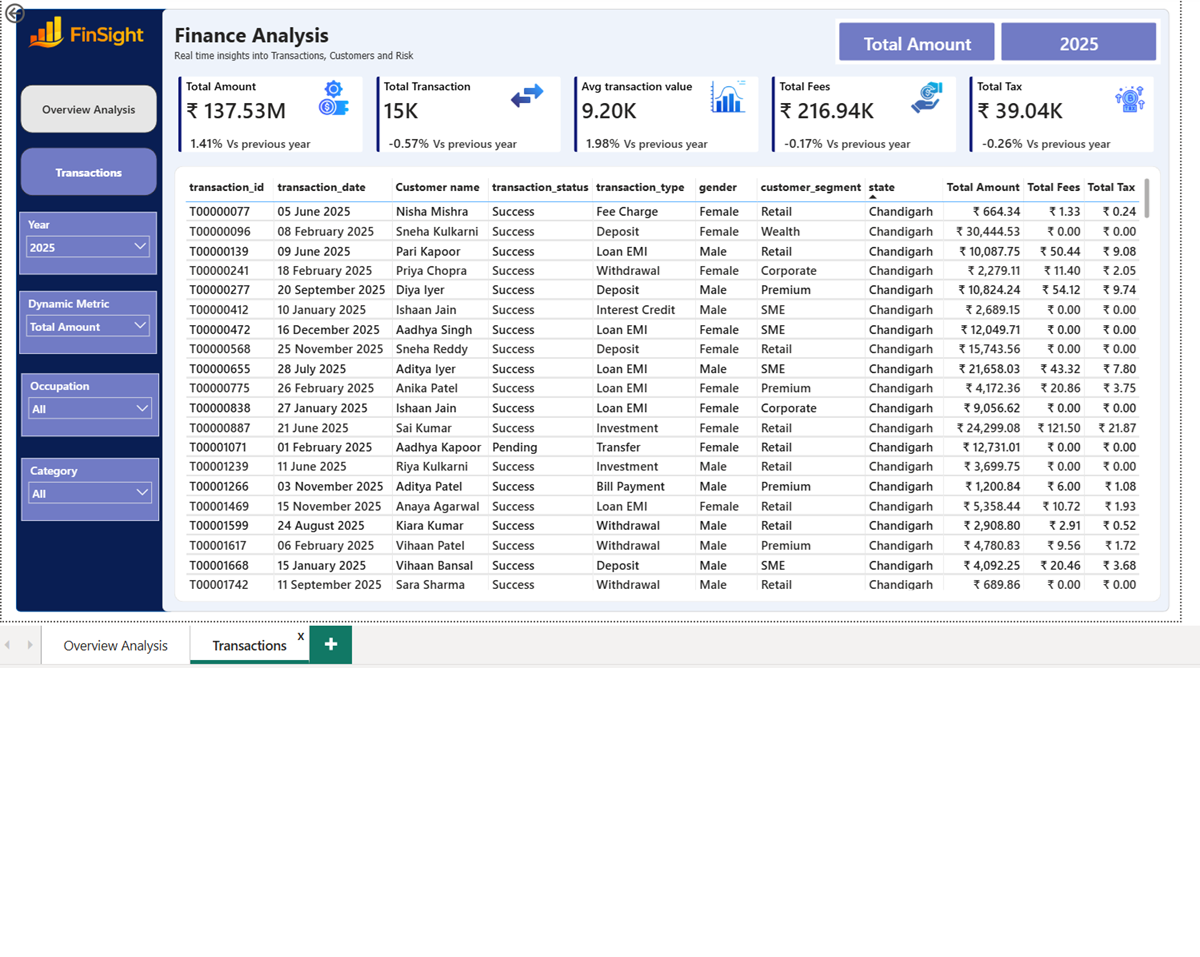

What the dashboard file says about the page in this screenshot:
{"tool":"powerbi","page":{"name":"Transactions","canvas":[1800,950],"ordinal":1},"visuals":[{"type":"shape","box":[22,14,242,922],"z":0},{"type":"shape","box":[246,14,1538,922],"z":1000},{"type":"image","box":[22,14,218,72],"z":2000},{"type":"cardVisual","fields":{"Data":["finance_transactions.Name"]},"box":[246.7,13.3,858.3,98.3],"z":3000},{"type":"cardVisual","fields":{"Data":["finance_transactions.Total Amount","finance_transactions.Total Transaction","finance_transactions.Avg trans","finance_transactions.Total Fees","finance_transactions.Total Tax"]},"box":[263.3,111.7,1506.7,128.3],"z":4000},{"type":"image","box":[478.3,123.3,56.7,53.3],"z":5000},{"type":"image","box":[776.7,116.7,53.3,60],"z":6000},{"type":"image","box":[1388.3,123.3,50,53.3],"z":7000},{"type":"image","box":[1081.7,120,55,56.7],"z":8000},{"type":"image","box":[1696.7,123.3,53.3,58.3],"z":9000},{"type":"cardVisual","fields":{"Data":["finance_transactions.Selected Dynamic Metric","finance_transactions.Selected Year"]},"box":[1273.3,28.3,496.7,70],"z":10000},{"type":"shape","box":[263.3,253.3,1506.7,666.7],"z":11000},{"type":"tableEx","fields":{"Values":["finance_transactions.transaction_id","finance_transactions.transaction_date","customers.Customer name","finance_transactions.transaction_status","finance_transactions.transaction_type","customers.gender","customers.customer_segment","customers.state","finance_transactions.Total Amount","finance_transactions.Total Fees","finance_transactions.Total Tax"]},"box":[275,266.7,1483,640],"z":12000},{"type":"actionButton","box":[0,0,100,40],"z":13000},{"type":"slicer","fields":{"Values":["Date table.Year"]},"box":[27.6,324.3,210,95],"z":14000},{"type":"slicer","fields":{"Values":["Dynamic Metric.Dynamic Metric"]},"box":[27.6,445.9,210.1,95.8],"z":15000},{"type":"slicer","fields":{"Values":["customers.occupation"]},"box":[29.5,571.3,210.1,95.8],"z":16000},{"type":"slicer","fields":{"Values":["finance_transactions.merchant_category"]},"box":[29.5,700.2,210.1,95.8],"z":17000},{"type":"pageNavigator","box":[28.1,129.1,209.5,170.2],"z":18000}]}

Visuals, with their boxes on the page's 1800x950 design canvas (x1, y1, x2, y2). These are canvas units, not pixel positions in the 1200x957 screenshot, which may show the page scaled, cropped or inside an application window:
shape: box=[22, 14, 264, 936]
shape: box=[246, 14, 1784, 936]
image: box=[22, 14, 240, 86]
cardVisual - finance_transactions.Name: box=[247, 13, 1105, 112]
cardVisual - finance_transactions.Total Amount x finance_transactions.Total Transaction: box=[263, 112, 1770, 240]
image: box=[478, 123, 535, 177]
image: box=[777, 117, 830, 177]
image: box=[1388, 123, 1438, 177]
image: box=[1082, 120, 1137, 177]
image: box=[1697, 123, 1750, 182]
cardVisual - finance_transactions.Selected Dynamic Metric x finance_transactions.Selected Year: box=[1273, 28, 1770, 98]
shape: box=[263, 253, 1770, 920]
tableEx - finance_transactions.transaction_id x finance_transactions.transaction_date: box=[275, 267, 1758, 907]
actionButton: box=[0, 0, 100, 40]
slicer - Date table.Year: box=[28, 324, 238, 419]
slicer - Dynamic Metric.Dynamic Metric: box=[28, 446, 238, 542]
slicer - customers.occupation: box=[30, 571, 240, 667]
slicer - finance_transactions.merchant_category: box=[30, 700, 240, 796]
pageNavigator: box=[28, 129, 238, 299]
